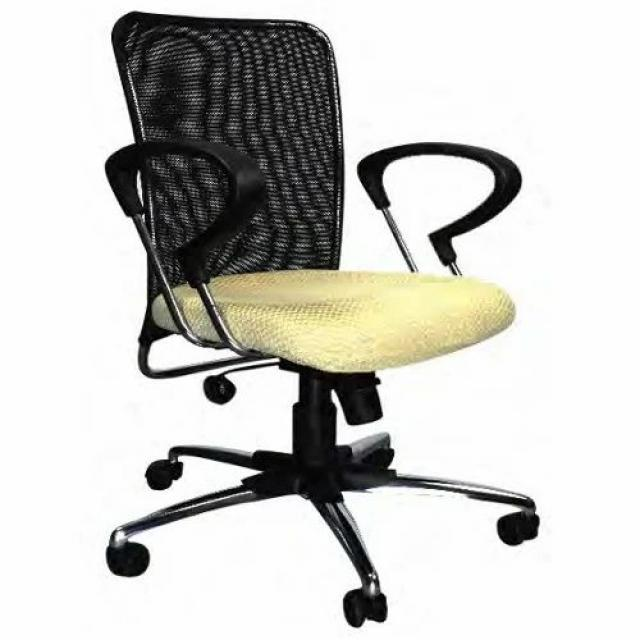chair: (68, 13, 564, 633)
